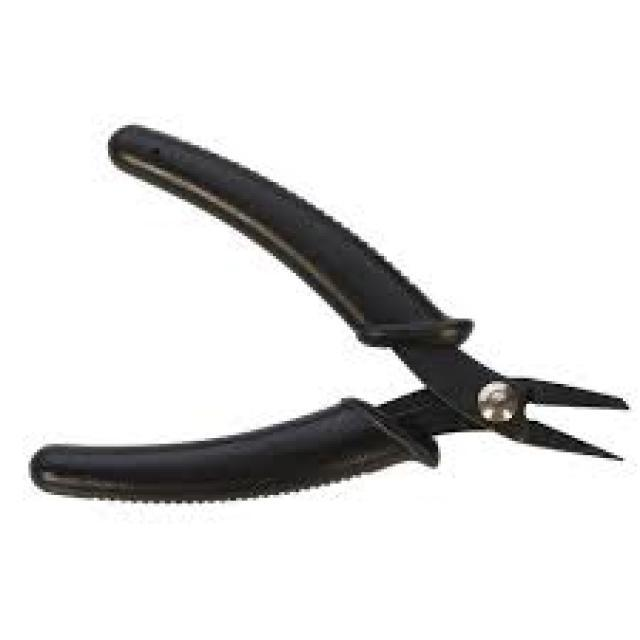pliers: (16, 113, 634, 511)
